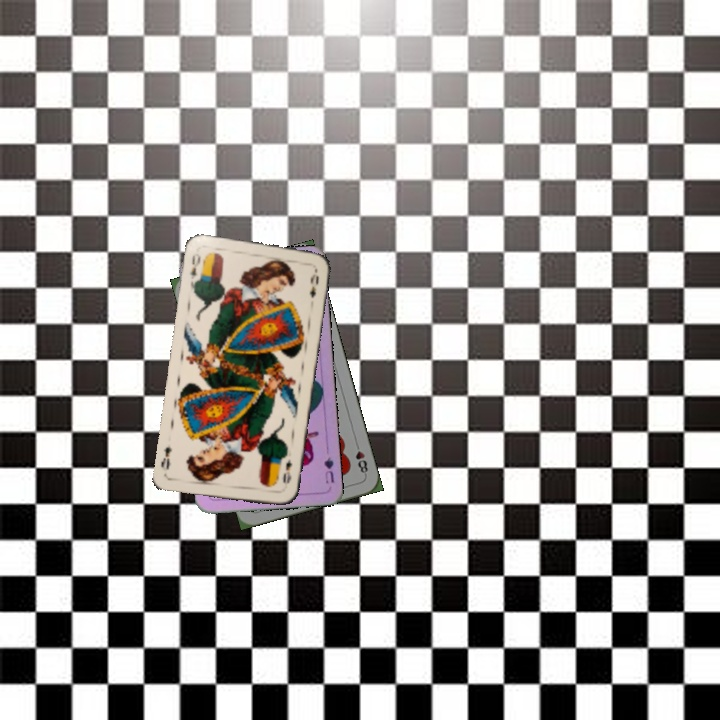EO: (186, 249, 206, 288), (279, 455, 295, 486)
GU: (320, 453, 337, 486)
H8: (351, 438, 370, 478)
